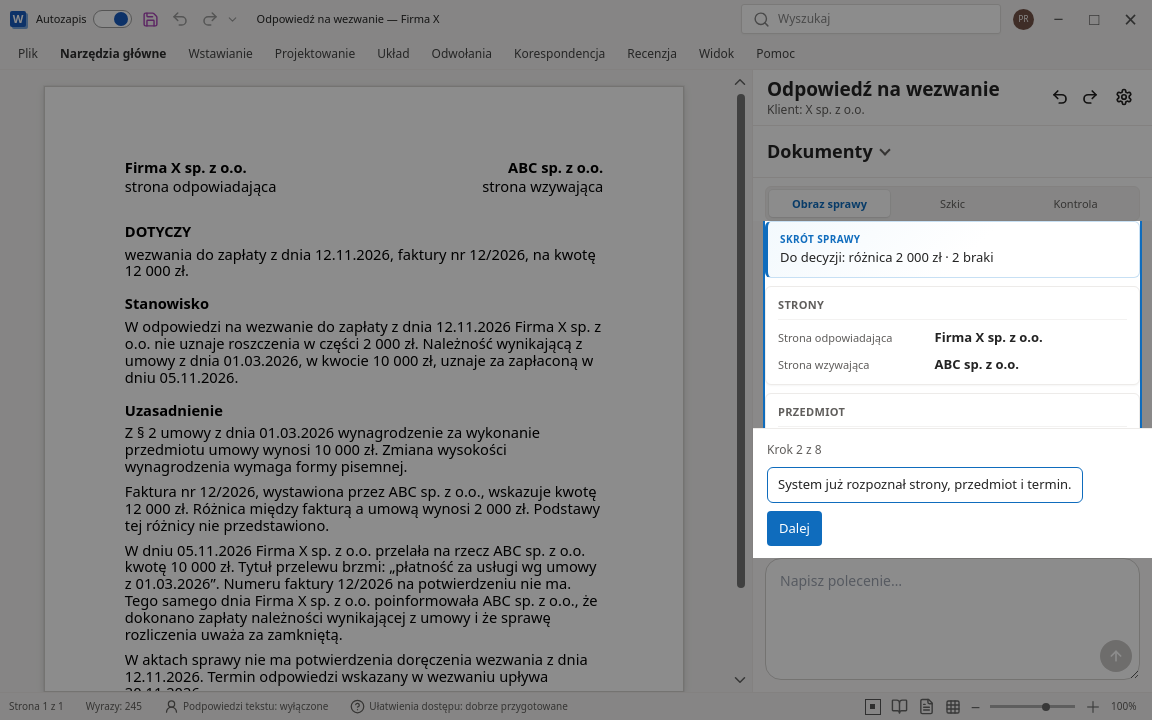
Test case: prezentacja › krok 7 otwiera kontrolę, blokery nad ostrzeżeniami
Earlier steps of the test are not shown.
(page scrolled)
Click the button "Dalej" at (794, 529), box x1=767 y1=511 x2=822 y2=546
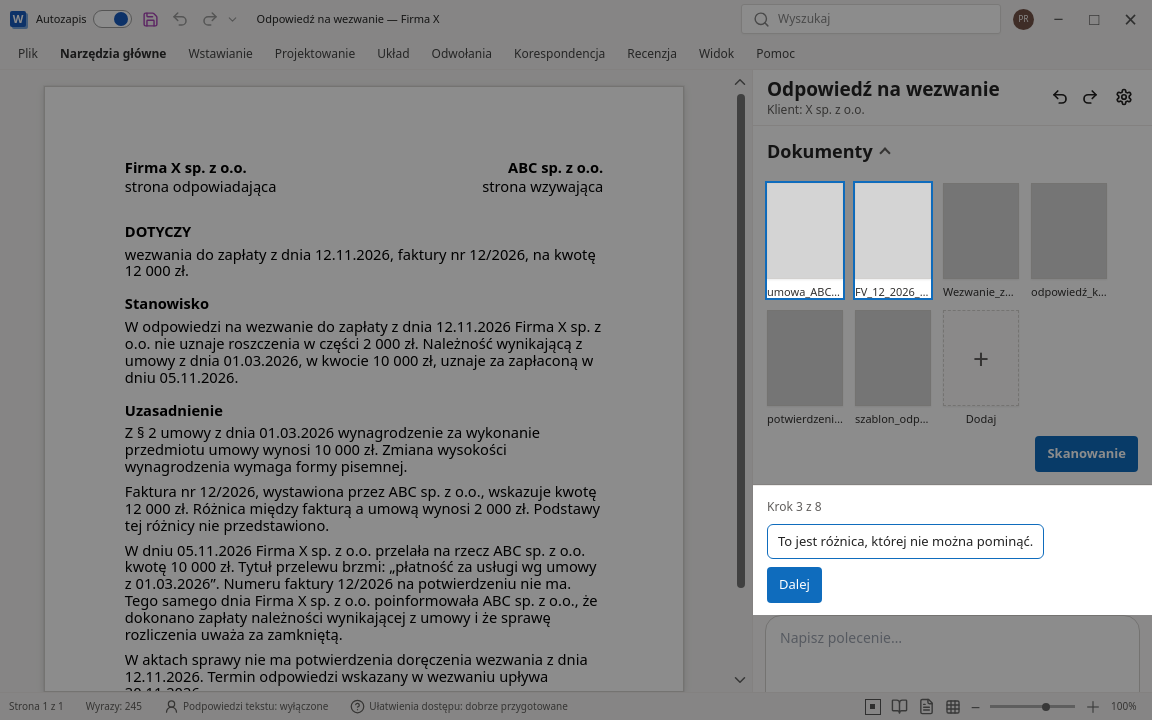
Click the button "Dalej" at (794, 585), box x1=767 y1=567 x2=822 y2=603
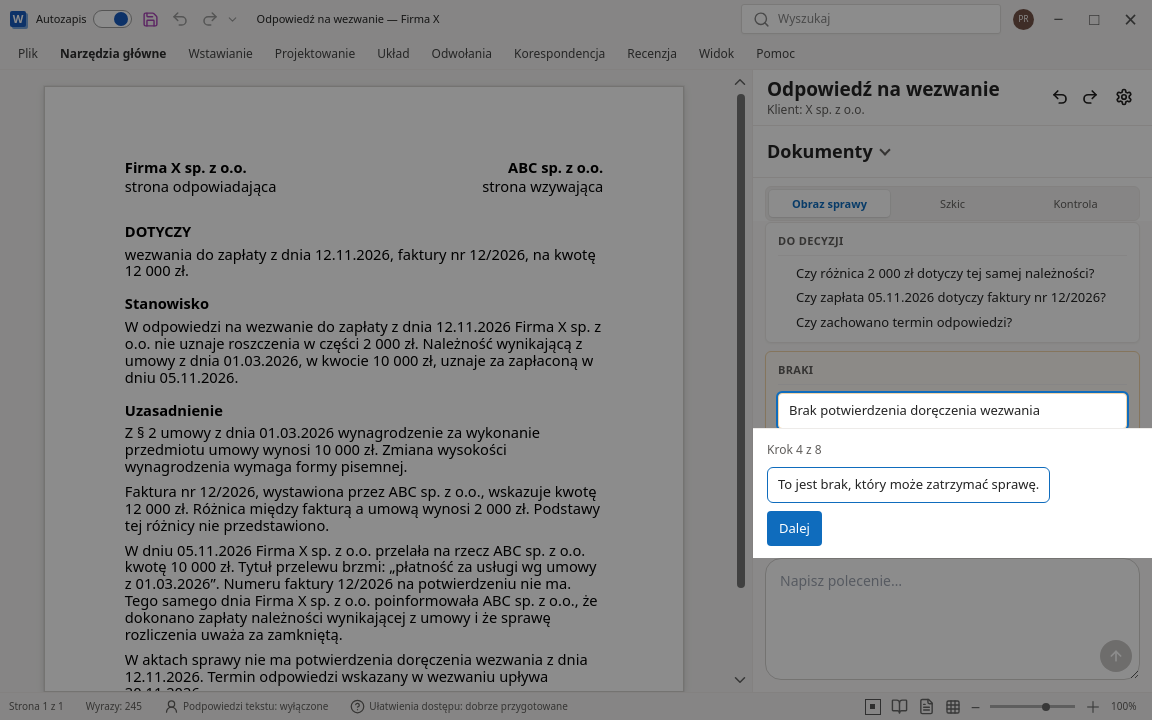
Click the button "Dalej" at (794, 529), box x1=767 y1=511 x2=822 y2=546
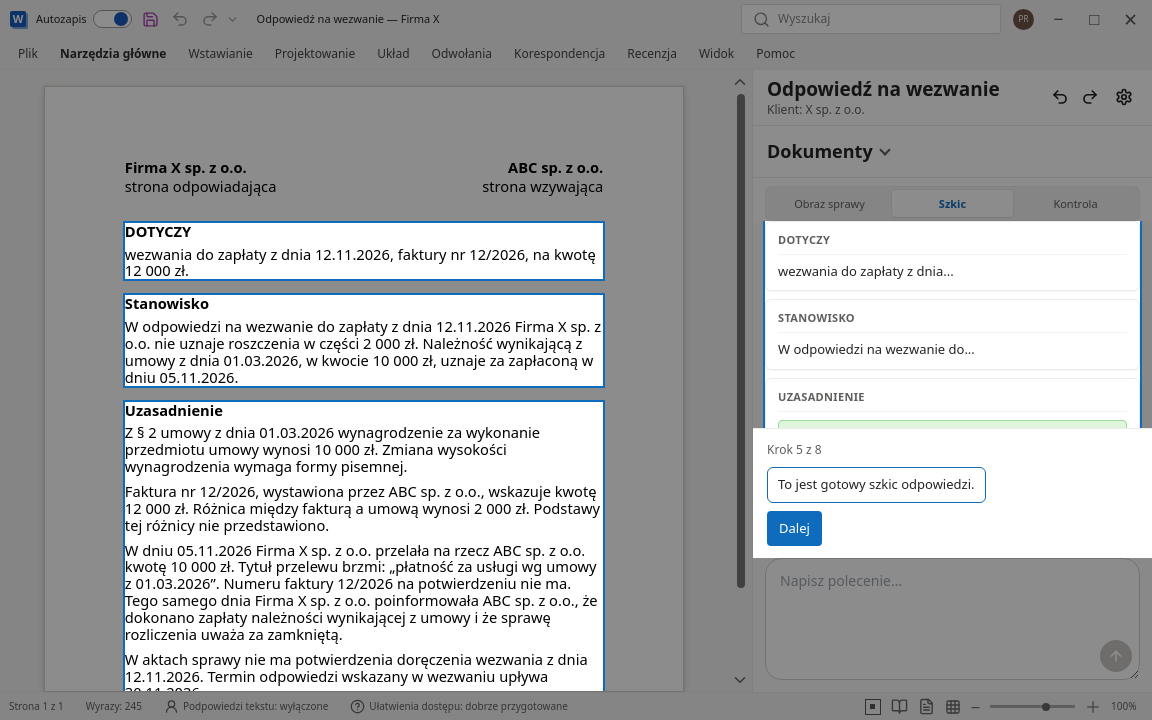
Click the button "Dalej" at (794, 529), box x1=767 y1=511 x2=822 y2=546
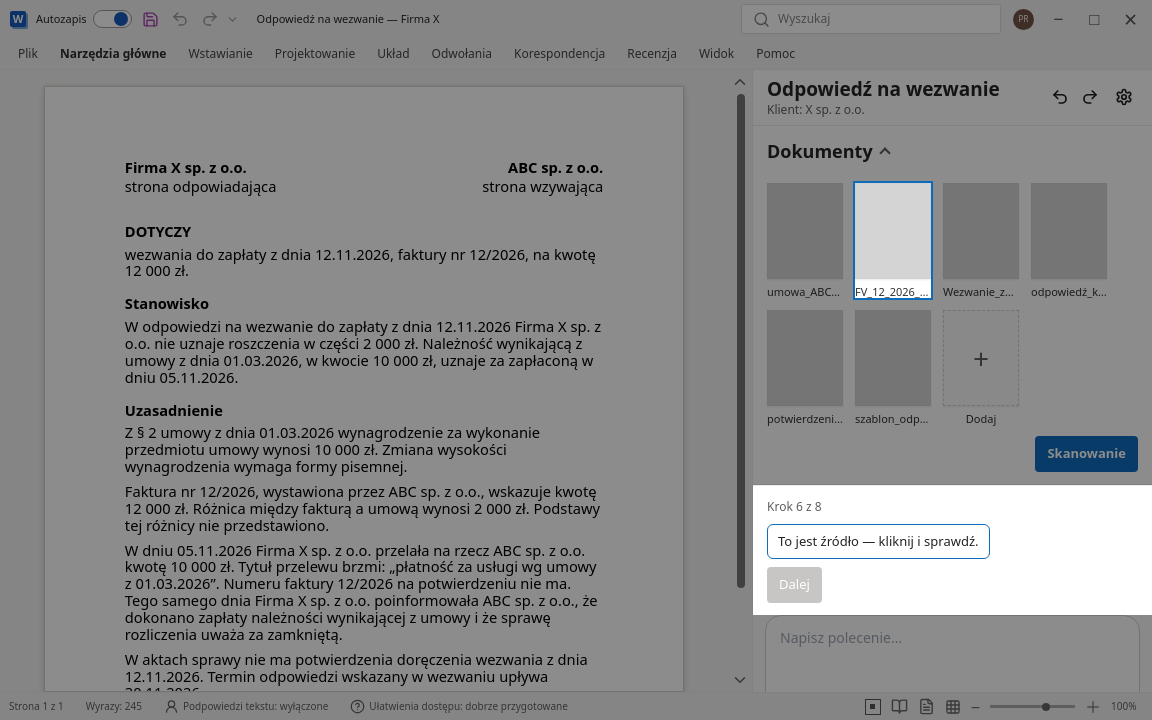
Click the button "FV_12_2026_skan.jpg" at (893, 241), box x1=855 y1=183 x2=931 y2=298
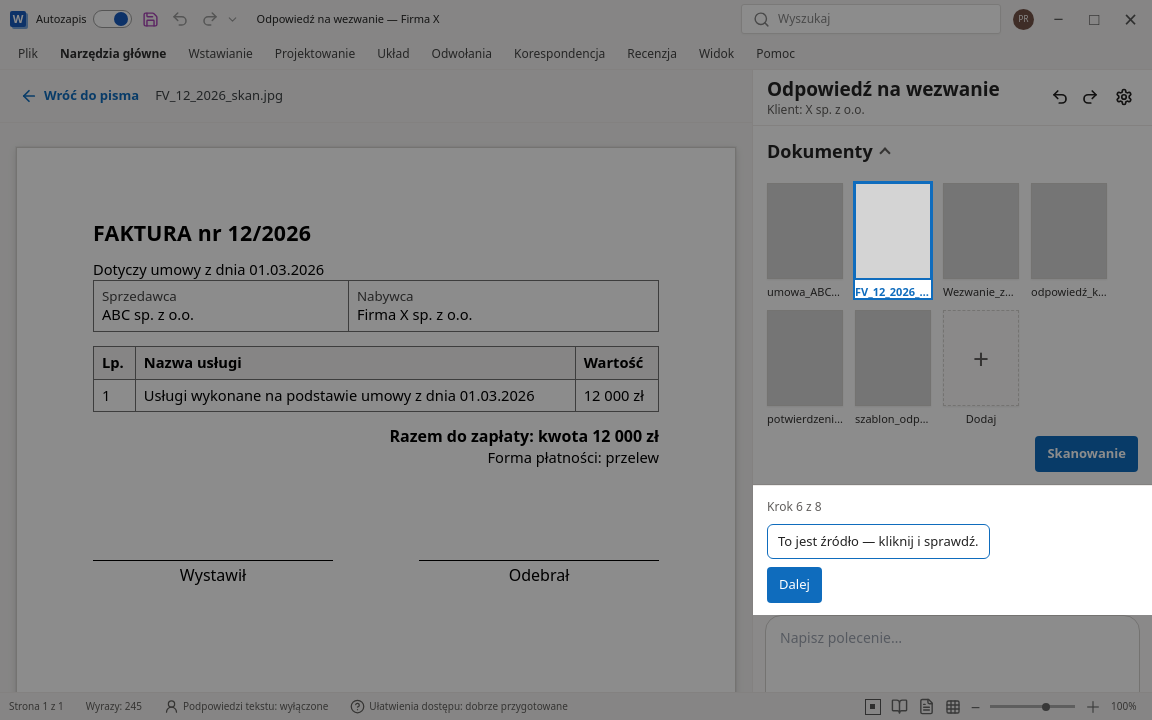
Click the button "Dalej" at (794, 585), box x1=767 y1=567 x2=822 y2=603
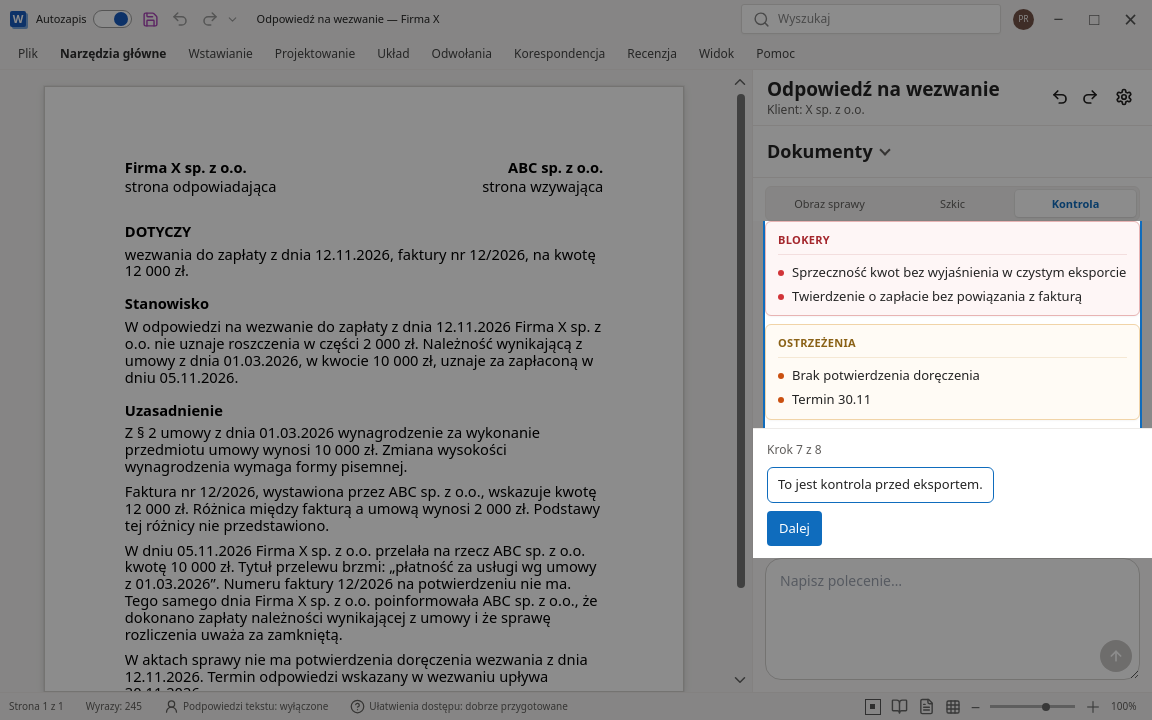
Expected: the text "To jest kontrola przed eksportem." is shown, x1=767 y1=467 x2=994 y2=503
